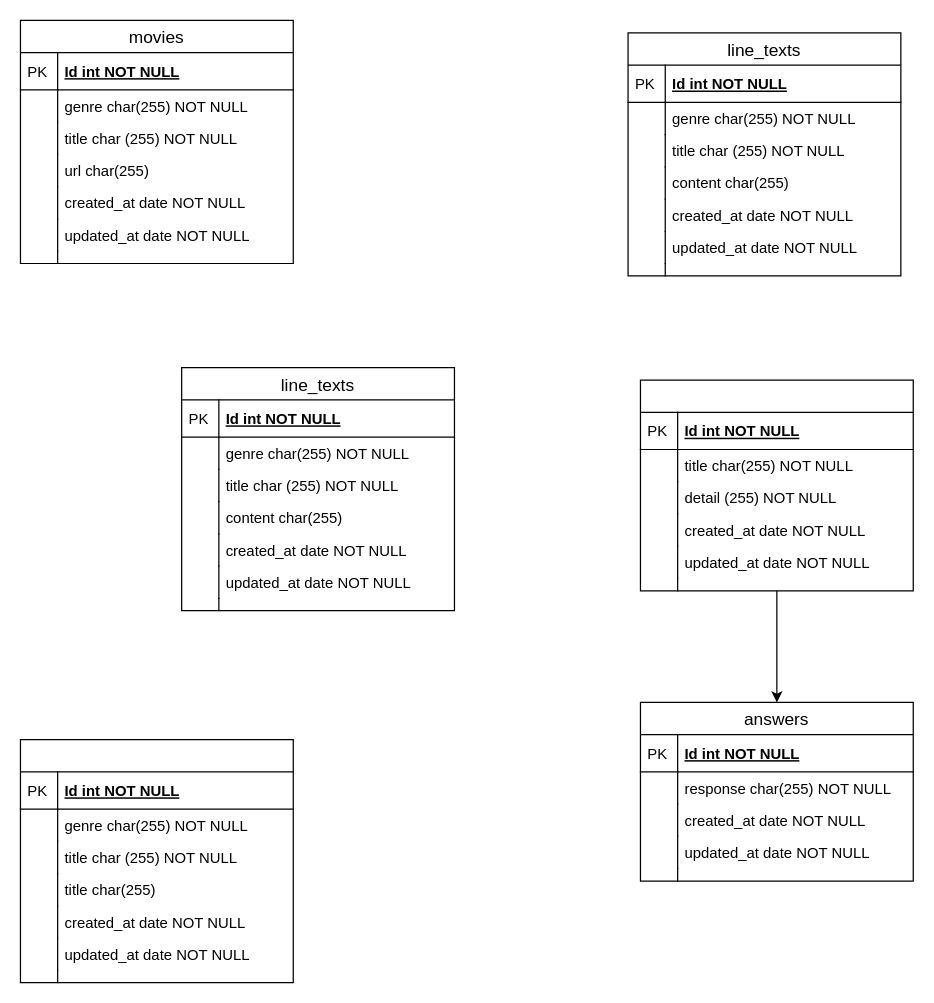
Some shapes in this 934 by 1003 pixel diagram are drawn without their labels. Here are the shapes that lost their labels. From the top down, the box of each, then its label:
(639, 379, 913, 591): questions
(19, 738, 293, 983): text_books
